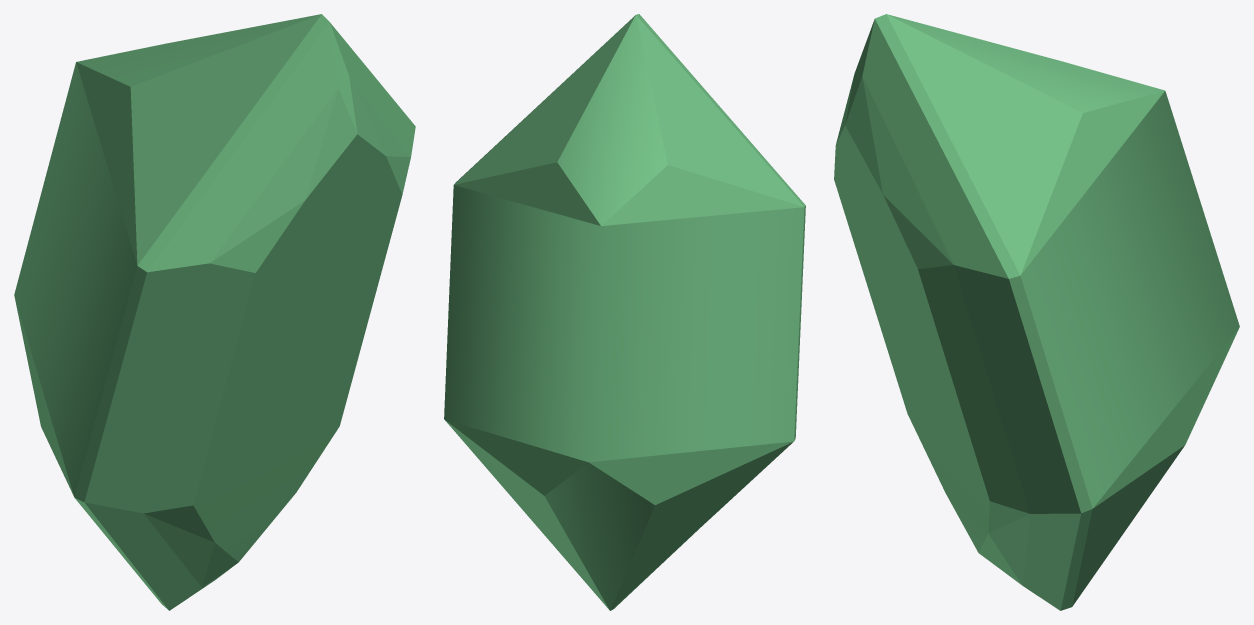
Rendered from BR2_8shapes_Hex_Classic_Stone.001 2.glb.
3 renders of one model, left to right at view 1: azimuth 30°, elevation 25°; view 2: azimuth 150°, elevation 25°; view 3: azimuth 270°, elevation 25°, orthographic. The views are drawn at different scales.
Parts seen in each view (by area): view 1: BR2_8shapes_Hex_Classic_Stone.001; view 2: BR2_8shapes_Hex_Classic_Stone.001; view 3: BR2_8shapes_Hex_Classic_Stone.001.
Part boxes in pixels (x1,y1,x2,y2): BR2_8shapes_Hex_Classic_Stone.001: (14,14,415,610); BR2_8shapes_Hex_Classic_Stone.001: (444,14,805,610); BR2_8shapes_Hex_Classic_Stone.001: (834,14,1239,610).
Bounding box in the file's own units: 0.3633 × 0.5951 × 0.3495.
